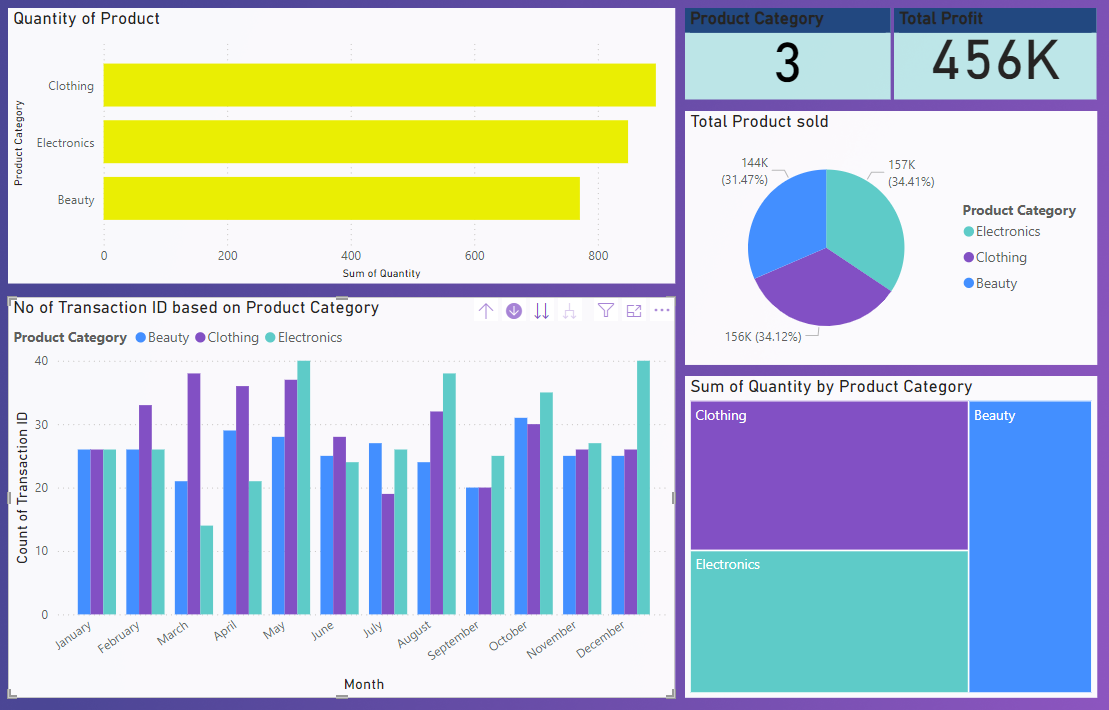

What the dashboard file says about the page in this screenshot:
{"tool":"powerbi","page":{"name":"Page 1","canvas":[1280,720],"ordinal":0},"visuals":[{"type":"clusteredColumnChart","title":"No of Transaction ID based on Product Category ","fields":{"Category":["retail_sales_dataset.Product Category","retail_sales_dataset.Date.Variation.Date Hierarchy.Year","retail_sales_dataset.Date.Variation.Date Hierarchy.Quarter","retail_sales_dataset.Date.Variation.Date Hierarchy.Month","retail_sales_dataset.Date.Variation.Date Hierarchy.Day"],"Y":["CountNonNull(retail_sales_dataset.Transaction ID)"],"Series":["retail_sales_dataset.Product Category"]},"box":[88.5,306.4,648.8,390],"z":0},{"type":"treemap","fields":{"Group":["retail_sales_dataset.Product Category"],"Values":["Sum(retail_sales_dataset.Quantity)"]},"box":[747,383.2,400.7,313.2],"z":1000},{"type":"card","title":"Product Category","fields":{"Values":["Count(retail_sales_dataset.Product Category)"]},"box":[747,25.3,200.4,88.5],"z":2000},{"type":"barChart","title":" Quantity of Product ","fields":{"Category":["retail_sales_dataset.Product Category"],"Y":["Sum(retail_sales_dataset.Quantity)"]},"box":[88.5,25.3,648.8,268.4],"z":3000},{"type":"pieChart","title":"Total  Product sold","fields":{"Y":["Sum(retail_sales_dataset.Total Amount)"],"Category":["retail_sales_dataset.Product Category"]},"box":[747,125.5,400.7,247.1],"z":4000},{"type":"card","title":"Total Profit","fields":{"Values":["Sum(retail_sales_dataset.Total Amount)"]},"box":[950.3,25.3,197.4,88.5],"z":4001}]}

Visuals, with their boxes on the page's 1280x720 design canvas (x1, y1, x2, y2). These are canvas units, not pixel positions in the 1109x710 screenshot, which may show the page scaled, cropped or inside an application window:
"No of Transaction ID based on Product Category " clusteredColumnChart: [88,306,737,696]
treemap - retail_sales_dataset.Product Category x Sum(retail_sales_dataset.Quantity): [747,383,1148,696]
"Product Category" card: [747,25,947,114]
" Quantity of Product " barChart: [88,25,737,294]
"Total  Product sold" pieChart: [747,126,1148,373]
"Total Profit" card: [950,25,1148,114]
